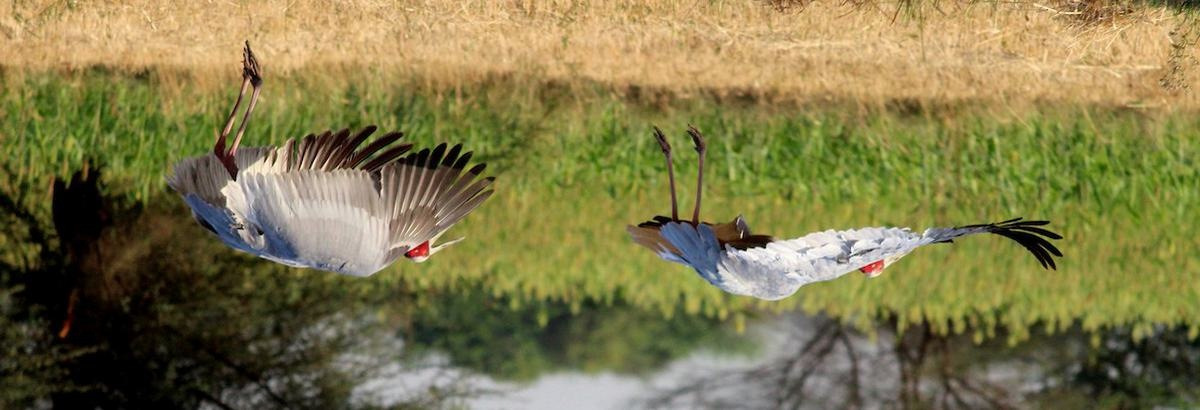crane: (627, 122, 1073, 321), (171, 81, 497, 270)
